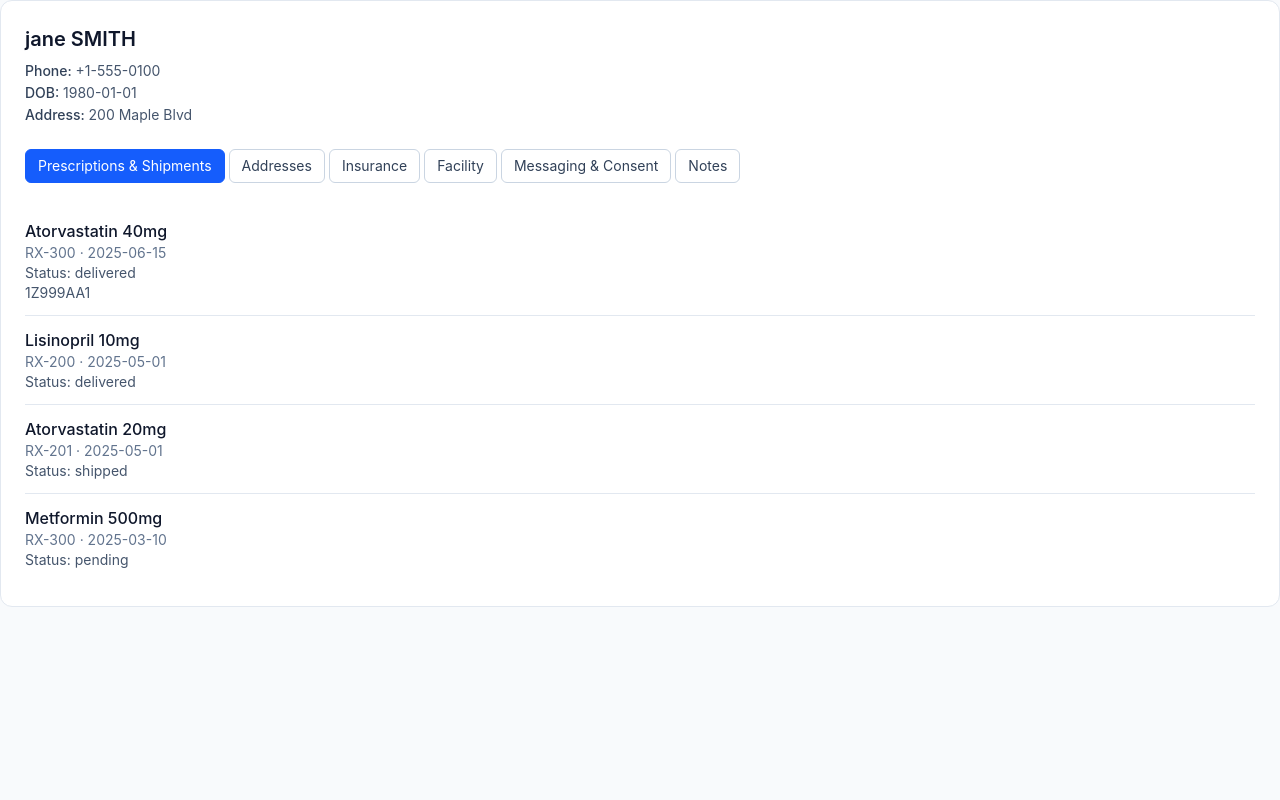
PatientProfile › shows the Facility tab
The width and height of the screenshot is (1280, 800).
Step 1. Click the button "Facility" → (461, 166), box [424, 149, 497, 183]
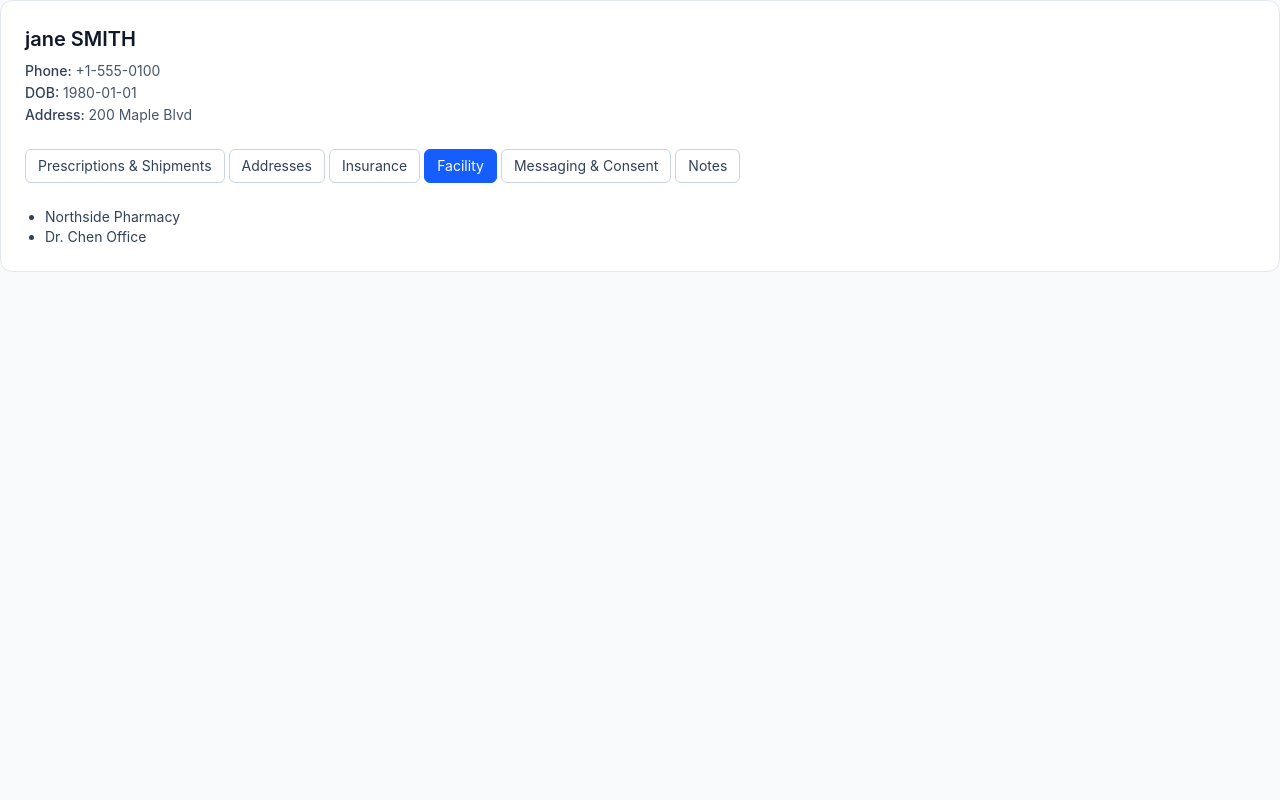
Expected: the list item "Northside Pharmacy" is shown, [45, 208, 180, 225]
